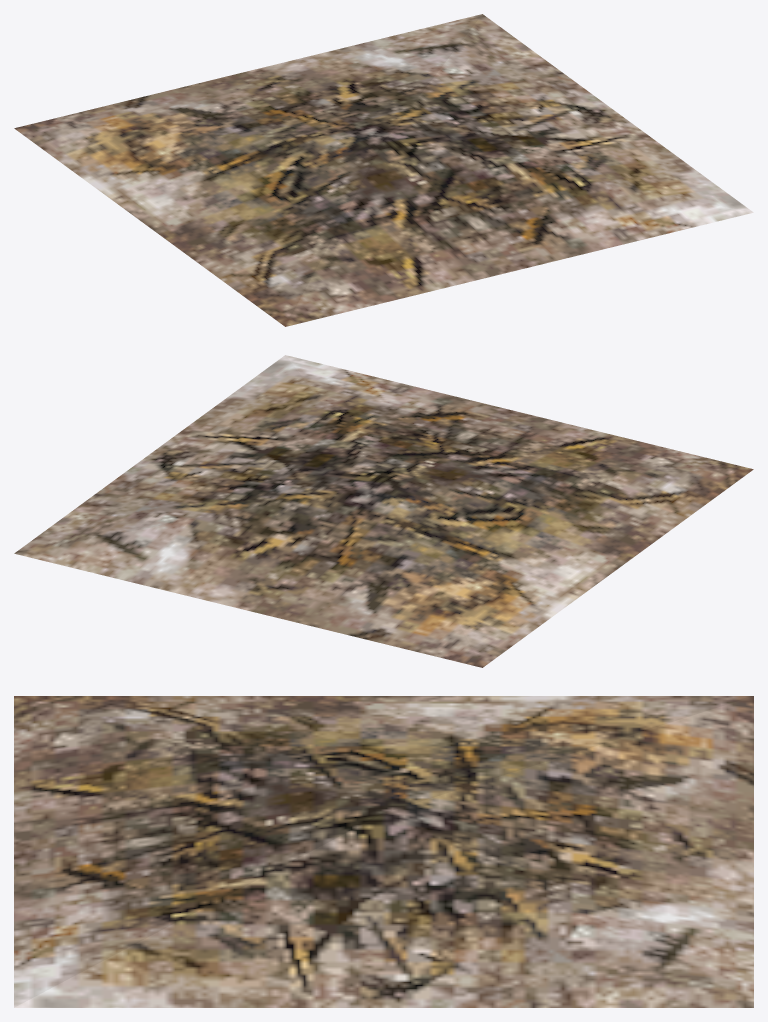
Rendered from destruction_1x1_base.glb.
3 views of the same model, one above another, from view 1: azimuth 30°, elevation 25°; view 2: azimuth 150°, elevation 25°; view 3: azimuth 270°, elevation 25° (orthographic). The views are drawn at different scales.
Visible parts, largest first — view 1: MeshRoot; view 2: MeshRoot; view 3: MeshRoot.
Part boxes in pixels (x1,y1,x2,y2): MeshRoot: (14,14,753,326); MeshRoot: (14,355,753,667); MeshRoot: (14,696,753,1007).
Bounding box in the file's own units: 2.52 × 0.1454 × 2.52.
1 material, 1 textured.
